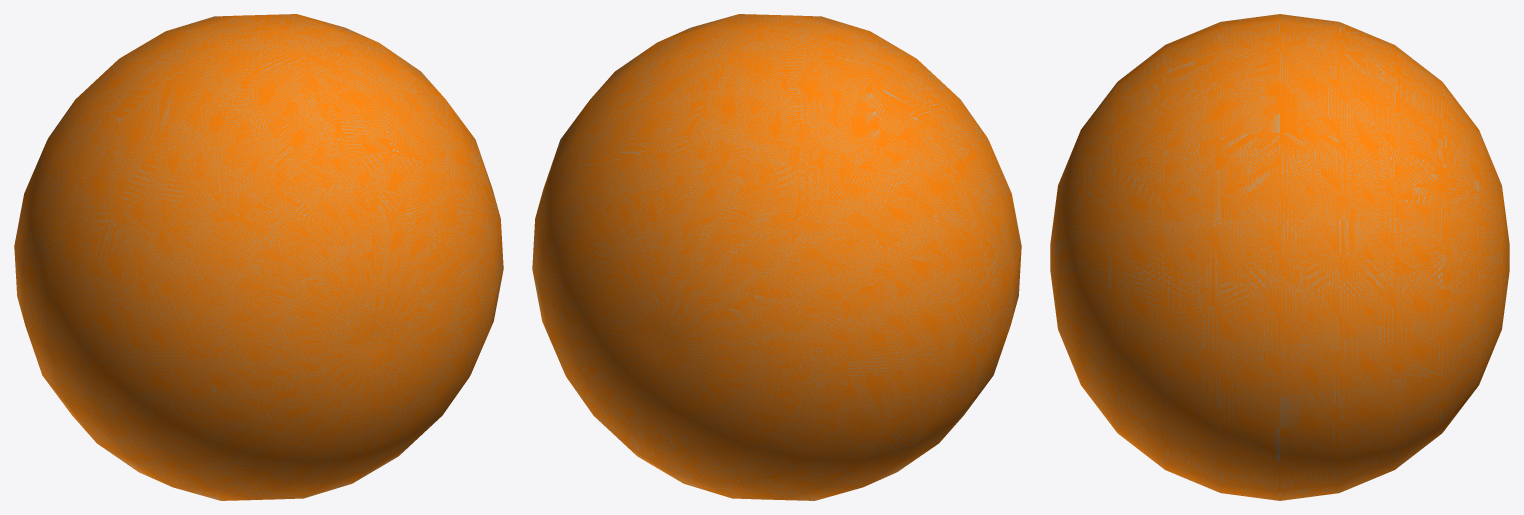
The model's file is intermediate.dae.
3 views of the same model, side by side, from view 1: azimuth 30°, elevation 25°; view 2: azimuth 150°, elevation 25°; view 3: azimuth 270°, elevation 25° (orthographic).
Parts seen in each view (by area): view 1: SketchUp; view 2: SketchUp; view 3: SketchUp.
Boxes of the visible parts, x1,y1,x2,y2 form: SketchUp: (14,14,503,500); SketchUp: (532,14,1021,500); SketchUp: (1050,14,1509,500).
Bounding box in the file's own units: 202 × 192 × 202.
